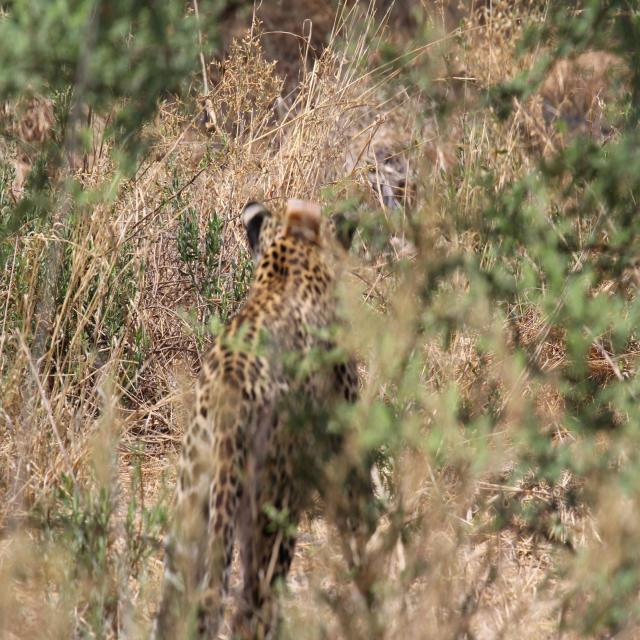Leopard: (155, 182, 362, 640)
